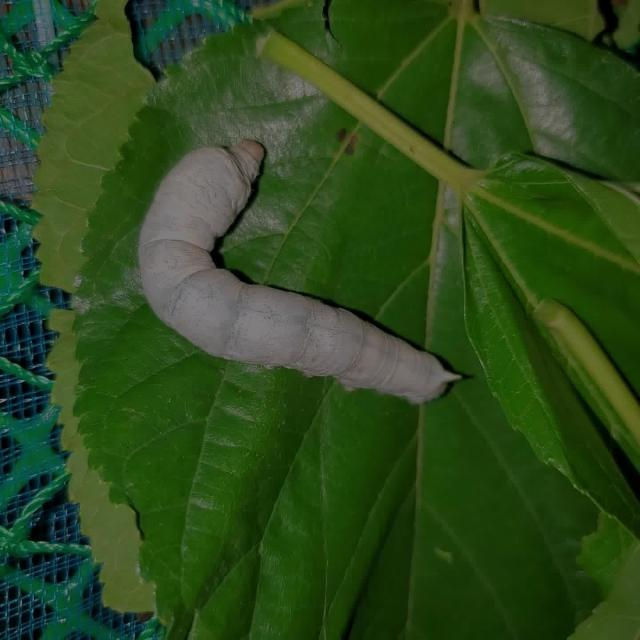Healthy: (105, 102, 498, 448)
